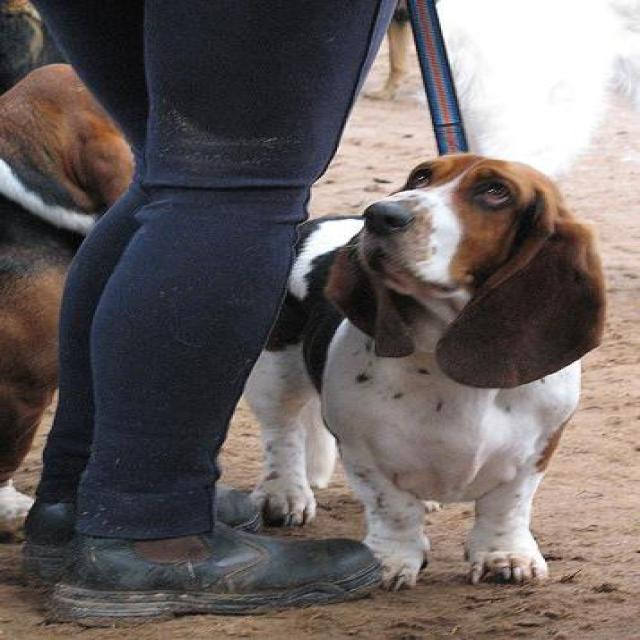basset: (242, 151, 606, 597)
